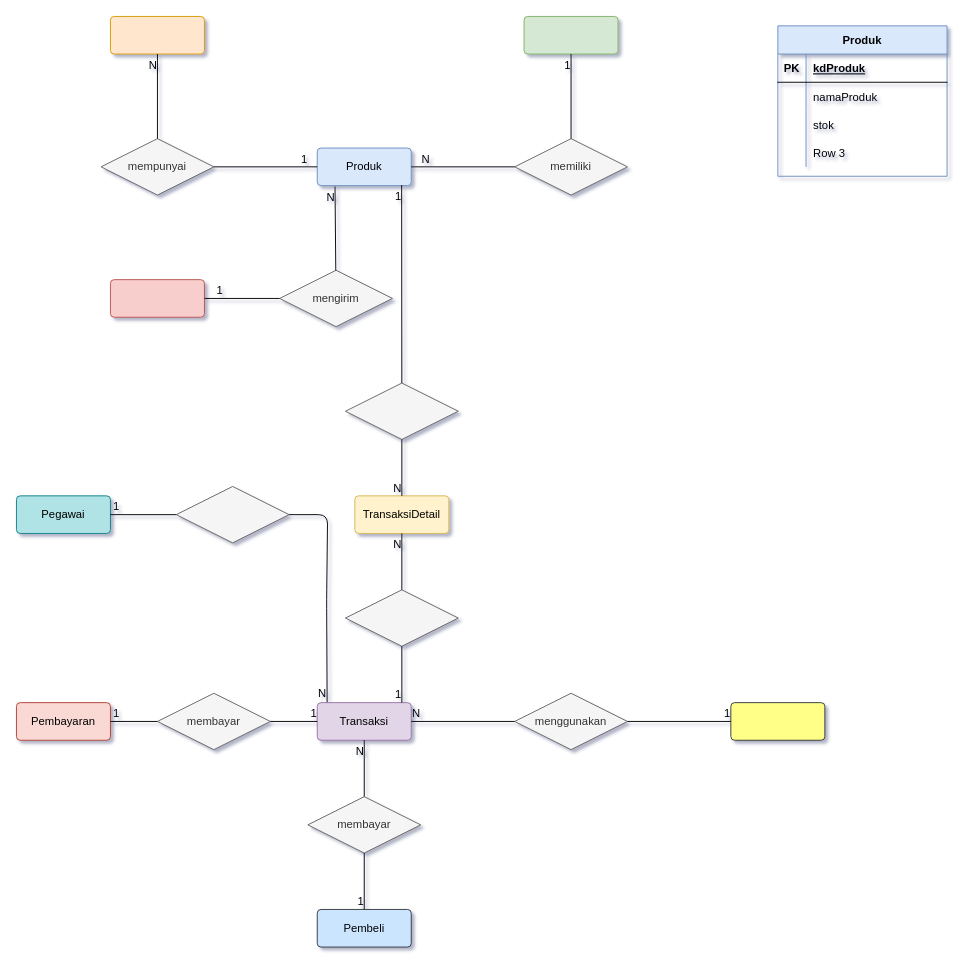
This 969x969 diagram has some shape labels left out. Here are the shapes that lost their labels. From the top down, the centre of each, then its label:
the point at 157,35: ProdukDeskripsi
the point at 570,35: Kategori
the point at 157,298: Supplier
the point at 401,410: membeli
the point at 232,514: mencacat
the point at 401,617: memesan
the point at 777,721: Ekspedisi
